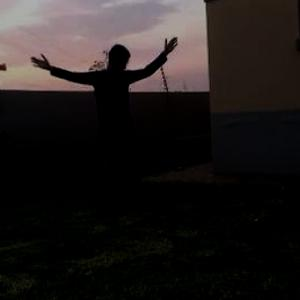takeoff: (24, 20, 182, 206)
